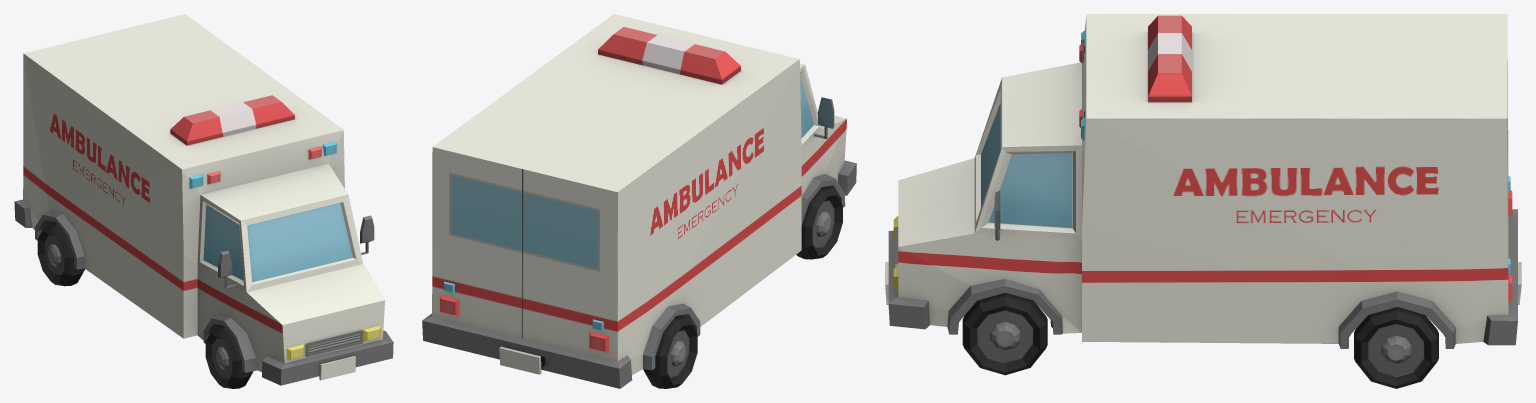
Rendered from ambulance.glb.
The picture shows the model from 3 angles, left to right: view 1: azimuth 30°, elevation 25°; view 2: azimuth 150°, elevation 25°; view 3: azimuth 270°, elevation 25°; orthographic projection. The views are drawn at different scales.
Visible parts, largest first — view 1: Ambulance_mesh; view 2: Ambulance_mesh; view 3: Ambulance_mesh.
Part boxes in pixels (x1=…): Ambulance_mesh: x1=14, y1=14, x2=393, y2=388; Ambulance_mesh: x1=422, y1=14, x2=856, y2=388; Ambulance_mesh: x1=885, y1=14, x2=1521, y2=388.
Size of the model in its own units: 9.73 by 10.53 by 21.12.
Materials: 1 (1 with a texture image).
